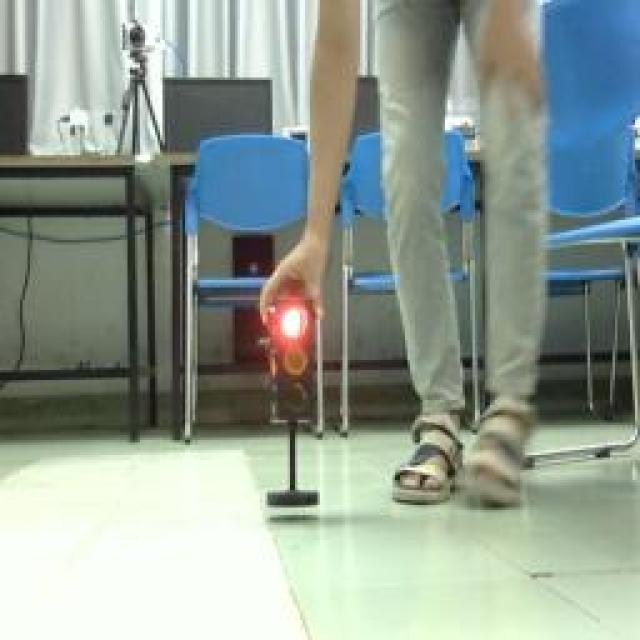-: (280, 305, 310, 340)
